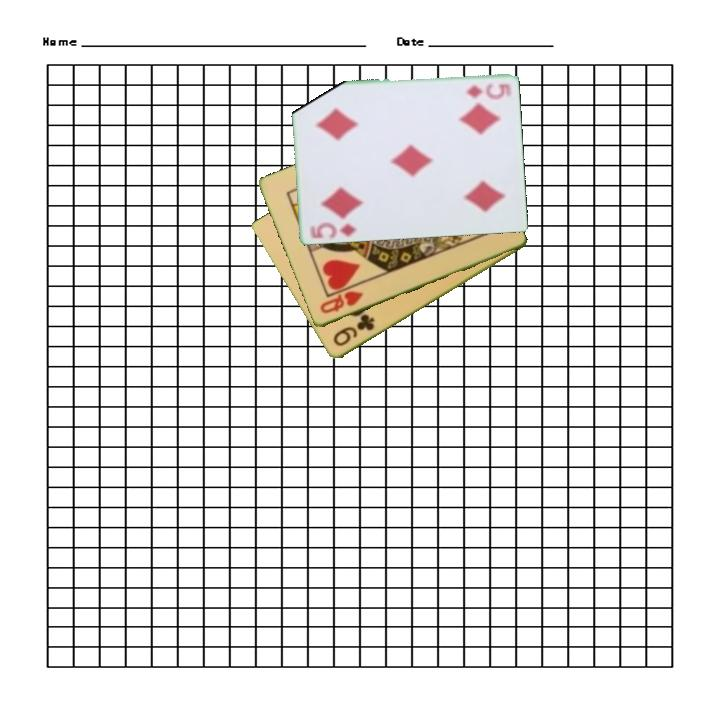5d: (305, 219, 359, 242), (463, 79, 514, 99)
9c: (329, 312, 377, 350)
Qh: (316, 288, 366, 317)
